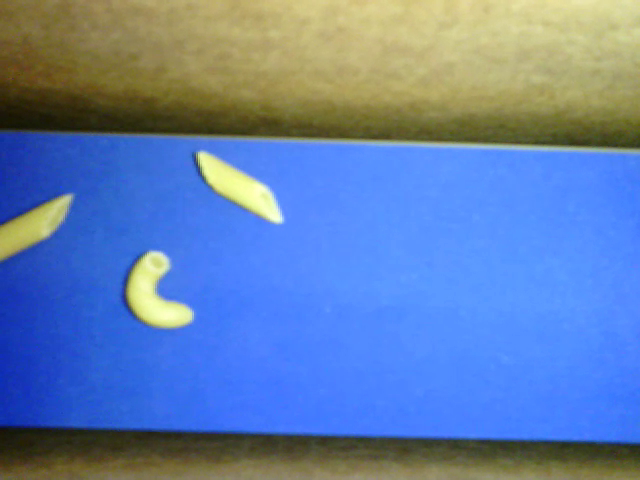elbow: (124, 249, 195, 329)
penne: (194, 148, 284, 222), (1, 193, 73, 259)
